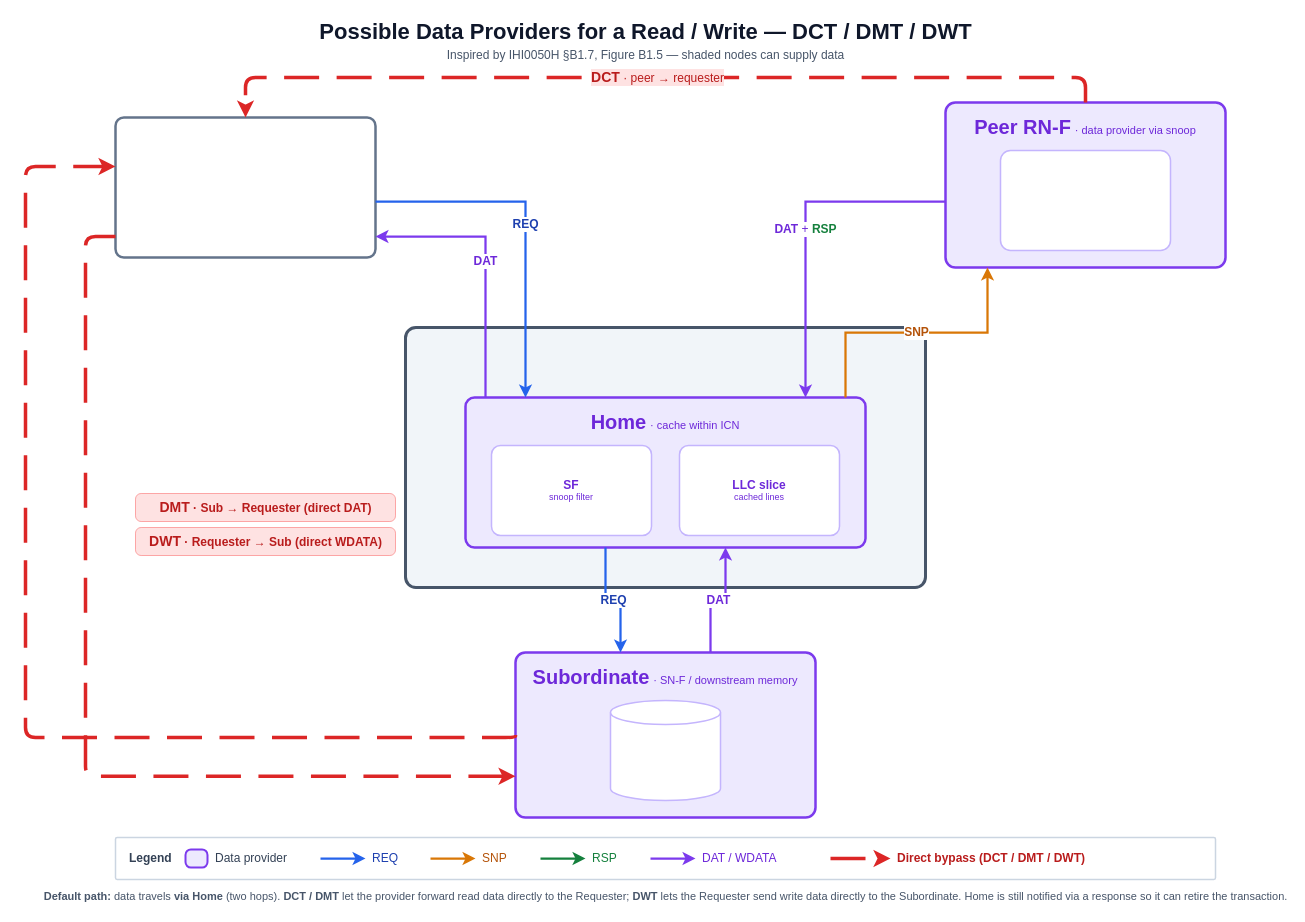
Image size: 1305x922. Some labels were removed from this diagram. The box of each missing label's shape, as (x1, y1, x2, y2) in pixels:
DRAM: (609, 699, 721, 801)
ICN · Interconnect Network: (404, 326, 926, 588)
private cache L1 / L2: (999, 149, 1171, 251)
Requester RN-F / RN-I not a data provider: (114, 116, 376, 258)
